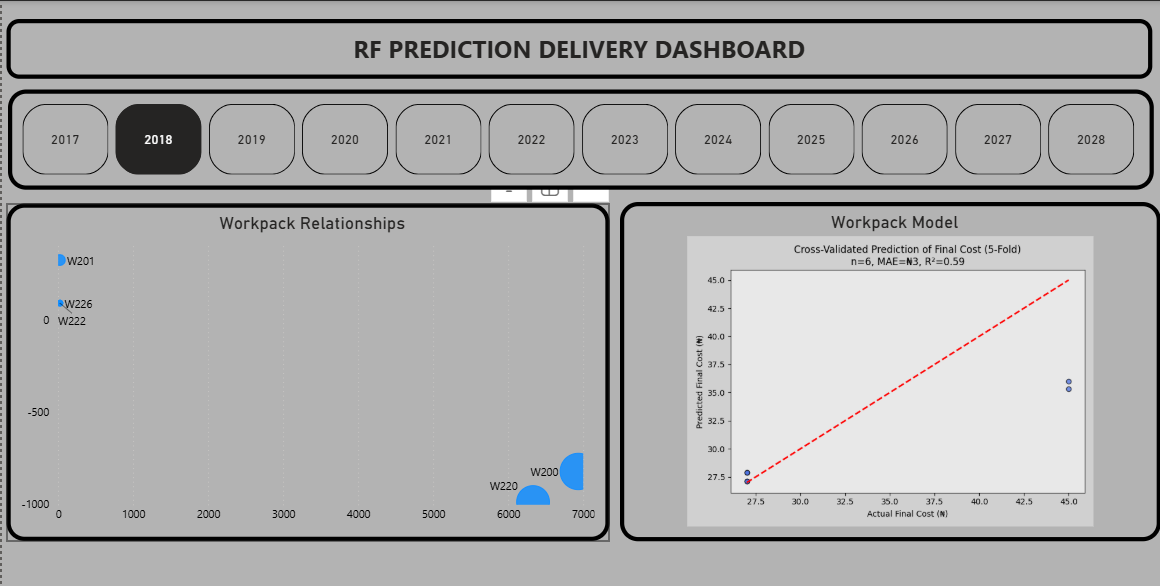

The dashboard page shown, as its layout file describes it:
{"tool":"powerbi","page":{"name":"Random Forest Model","canvas":[1280,720],"ordinal":1},"visuals":[{"type":"pythonVisual","title":"Workpack Model","fields":{"Values":["SC Plans.Original Duration","SC Plans.CTO.PG.Workpack Number","SC Plans.Year of Month","SC Plans.Final Cost","SC Plans.Actual_Duration"]},"box":[681.8,222.8,597.4,374.6],"z":0},{"type":"scatterChart","title":"Workpack Relationships","fields":{"X":["Sum(SC Plans.Original Duration)"],"Y":["Sum(SC Plans.Final Cost)"],"Size":["Sum(SC Plans.Physical % Complete)"],"Category":["SC Plans.CTO_PG_Workpack_Number"]},"box":[5,223.6,665.9,372.7],"z":1000},{"type":"advancedSlicerVisual","fields":{"Values":["SC Plans.Finish.Variation.Date Hierarchy.Year"]},"box":[6.6,97.7,1265.6,111],"z":2000},{"type":"textbox","box":[5,19.9,1265.6,66.3],"z":2001}]}

Visuals, with their boxes on the page's 1280x720 design canvas (x1, y1, x2, y2). These are canvas units, not pixel positions in the 1160x586 screenshot, which may show the page scaled, cropped or inside an application window:
"Workpack Model" pythonVisual: box(682, 223, 1279, 597)
"Workpack Relationships" scatterChart: box(5, 224, 671, 596)
advancedSlicerVisual - SC Plans.Finish.Variation.Date Hierarchy.Year: box(7, 98, 1272, 209)
textbox: box(5, 20, 1271, 86)
